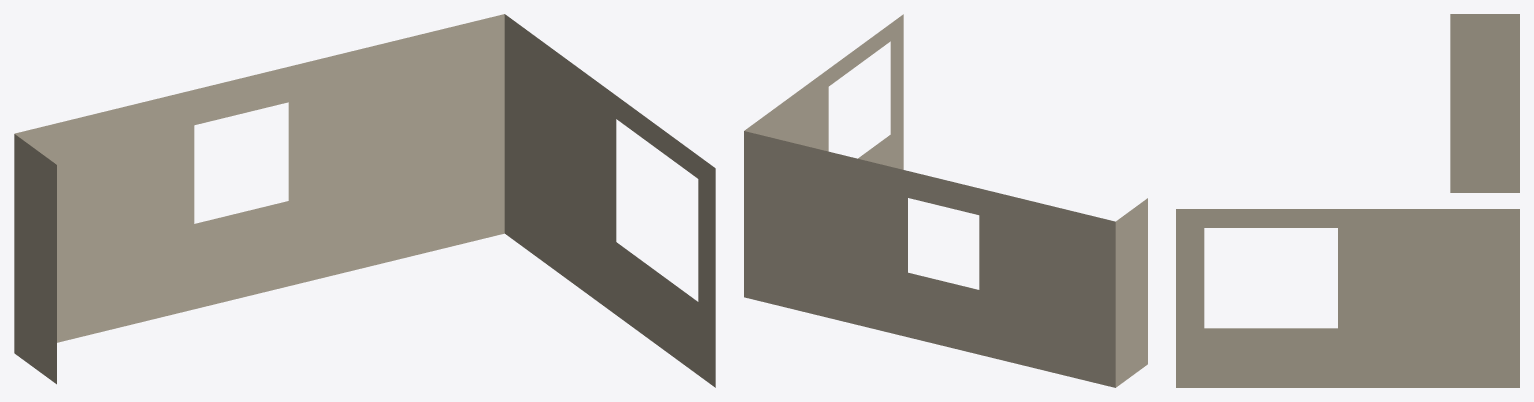
The model's file is ExteriorWalls.fbx.
3 views of the same model, side by side, from view 1: azimuth 30°, elevation 25°; view 2: azimuth 150°, elevation 25°; view 3: azimuth 270°, elevation 25° (orthographic). The views are drawn at different scales.
Visible parts, largest first — view 1: ExteriorWalls; view 2: ExteriorWalls; view 3: ExteriorWalls.
Boxes of the visible parts, box(x1,y1,x2,y2) form: ExteriorWalls: box(14, 14, 715, 387); ExteriorWalls: box(744, 14, 1147, 387); ExteriorWalls: box(1176, 14, 1519, 387).
Size of the model in its own units: 1629 by 697 by 1213.
